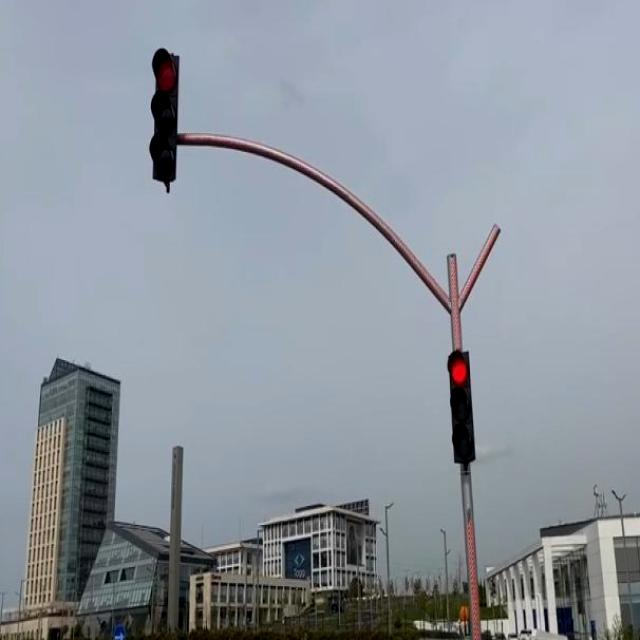kirmizi: (149, 49, 179, 193), (448, 349, 475, 475)
